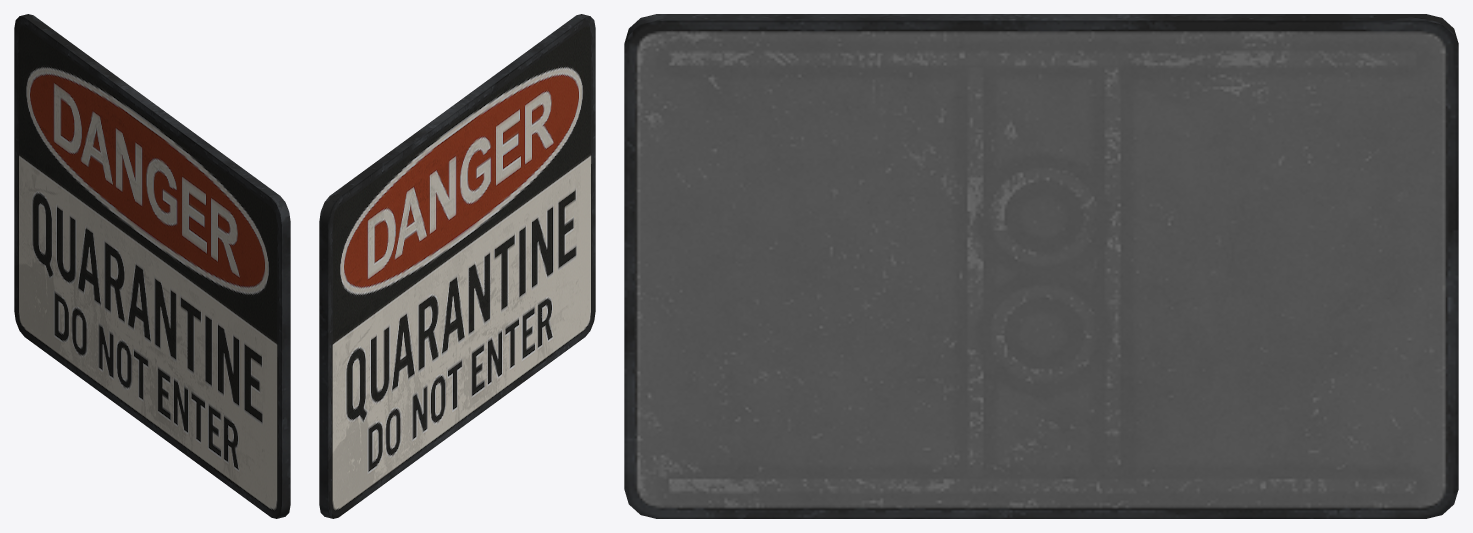
Rendered from HH_Sign_Danger.fbx.
The picture shows the model from 3 angles, left to right: view 1: azimuth 30°, elevation 25°; view 2: azimuth 150°, elevation 25°; view 3: azimuth 270°, elevation 25°; orthographic projection. The views are drawn at different scales.
Visible parts, largest first — view 1: HH_Sign_Danger; view 2: HH_Sign_Danger; view 3: HH_Sign_Danger.
Boxes of the visible parts, x1,y1,x2,y2 form: HH_Sign_Danger: [14, 14, 290, 518]; HH_Sign_Danger: [319, 14, 595, 518]; HH_Sign_Danger: [624, 14, 1458, 518].
Size of the model in its own units: 1.7 by 58.57 by 88.87.
